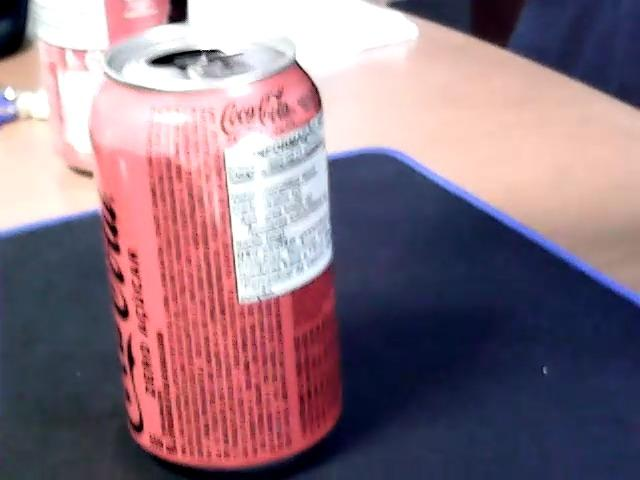coke: (87, 30, 340, 474), (32, 4, 171, 176)
